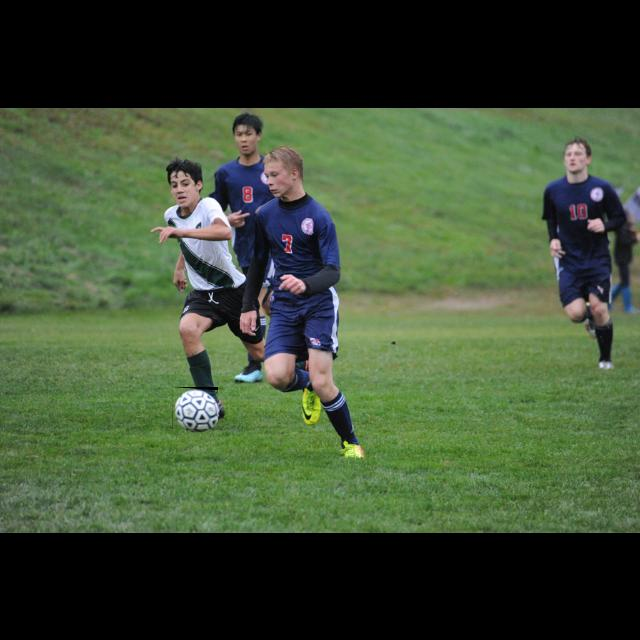Football: (172, 387, 218, 429)
